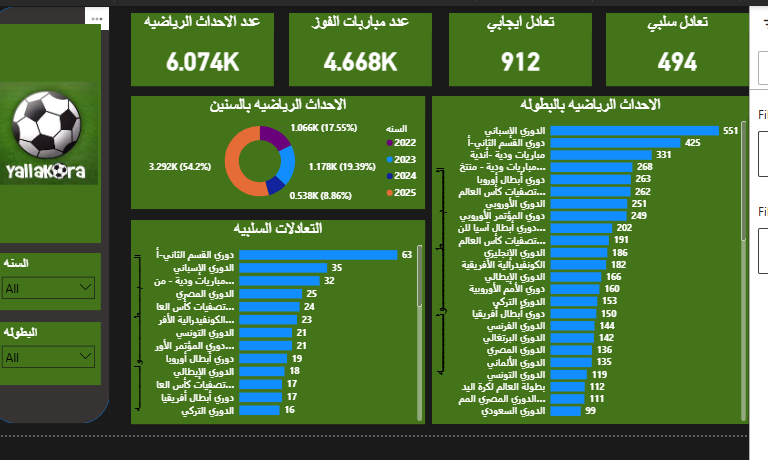

What the dashboard file says about the page in this screenshot:
{"tool":"powerbi","page":{"name":"يلا كوره","canvas":[1280,720],"ordinal":0},"visuals":[{"type":"cardVisual","title":"عدد الاحداث الرياضيه","fields":{"Data":["Dax_Measures.عدد الاحداث الرياضيه"]},"box":[241.9,11.8,240.2,139.4],"z":0},{"type":"cardVisual","title":"عدد مباربات الفوز","fields":{"Data":["Dax_Measures.عدد الاحداث التي انتهت بفوز احدي الفريقين"]},"box":[507.3,11.8,240.2,139.4],"z":1000},{"type":"cardVisual","title":"تعادل ايجابي","fields":{"Data":["Dax_Measures.عدد الاحداث التي انتهت بتعادل ايجابي"]},"box":[776.1,11.8,240.2,139.4],"z":2000},{"type":"cardVisual","title":"تعادل سلبي","fields":{"Data":["Dax_Measures.عدد الاحداث التي انتهت بتعادل سلبي"]},"box":[1039.8,11.8,240.2,139.4],"z":3000},{"type":"shape","box":[0,0,206.6,702.2],"z":4000},{"type":"slicer","fields":{"Values":["YallaKora Data.day.Variation.Date Hierarchy.Year"]},"box":[15.1,414.9,176.4,95.7],"z":5000},{"type":"slicer","fields":{"Values":["YallaKora Data.Champoin Type"]},"box":[15.1,530.8,176.4,105.8],"z":6000},{"type":"image","box":[8.4,30.2,183.1,367.9],"z":7000},{"type":"donutChart","title":" الاحداث الرياضيه بالسنين","fields":{"Category":["YallaKora Data.day.Variation.Date Hierarchy.Year"],"Y":["Dax_Measures.عدد الاحداث الرياضيه"]},"box":[241.9,189.8,493.9,151.2],"z":8000},{"type":"clusteredBarChart","title":"الاحداث الرياضيه بالبطوله","fields":{"Category":["YallaKora Data.Champoin Type"],"Y":["Dax_Measures.عدد الاحداث الرياضيه"]},"box":[747.5,189.8,532.5,512.3],"z":9000},{"type":"barChart","title":"التعادلات السلبيه","fields":{"Category":["YallaKora Data.Champoin Type"],"Y":["Dax_Measures.عدد الاحداث التي انتهت بتعادل سلبي"]},"box":[241.9,359.5,493.9,342.7],"z":9001}]}

Visuals, with their boxes on the page's 1280x720 design canvas (x1, y1, x2, y2). These are canvas units, not pixel positions in the 768x460 screenshot, which may show the page scaled, cropped or inside an application window:
"عدد الاحداث الرياضيه" cardVisual: [left=242, top=12, right=482, bottom=151]
"عدد مباربات الفوز" cardVisual: [left=507, top=12, right=748, bottom=151]
"تعادل ايجابي" cardVisual: [left=776, top=12, right=1016, bottom=151]
"تعادل سلبي" cardVisual: [left=1040, top=12, right=1280, bottom=151]
shape: [left=0, top=0, right=207, bottom=702]
slicer - YallaKora Data.day.Variation.Date Hierarchy.Year: [left=15, top=415, right=192, bottom=511]
slicer - YallaKora Data.Champoin Type: [left=15, top=531, right=192, bottom=637]
image: [left=8, top=30, right=192, bottom=398]
" الاحداث الرياضيه بالسنين" donutChart: [left=242, top=190, right=736, bottom=341]
"الاحداث الرياضيه بالبطوله" clusteredBarChart: [left=748, top=190, right=1280, bottom=702]
"التعادلات السلبيه" barChart: [left=242, top=360, right=736, bottom=702]
